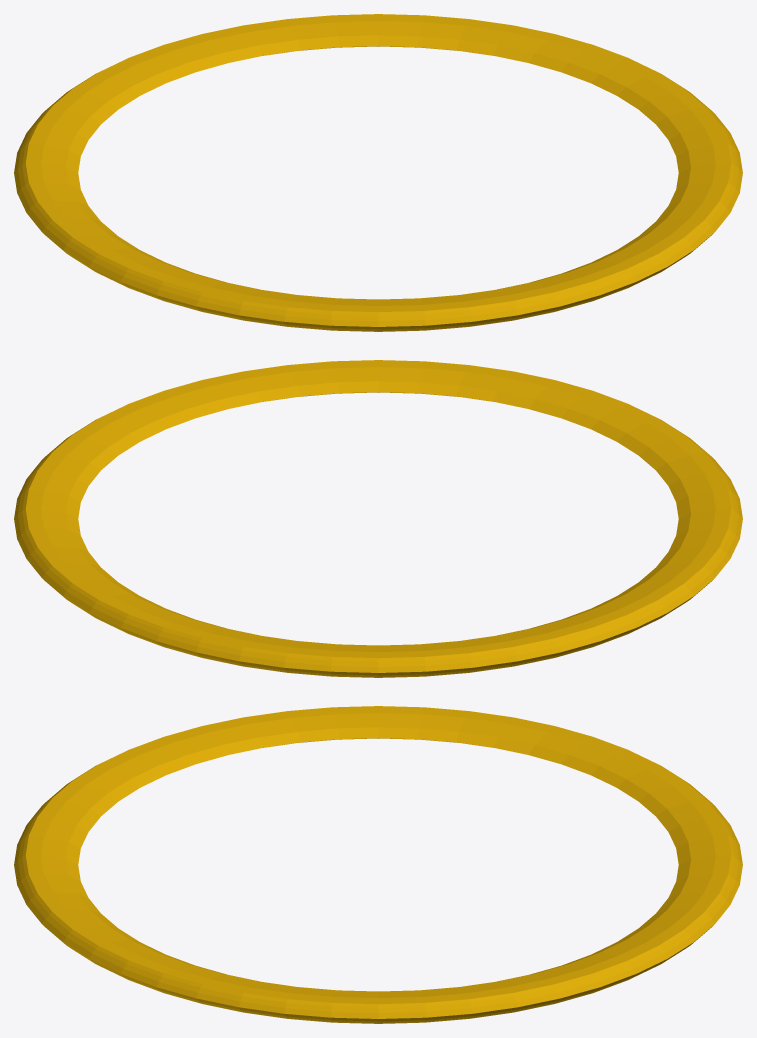
3 views of the same model, one above another, from view 1: azimuth 30°, elevation 25°; view 2: azimuth 150°, elevation 25°; view 3: azimuth 270°, elevation 25° (orthographic).
Parts seen in each view (by area): view 1: Torus; view 2: Torus; view 3: Torus.
Part boxes in pixels (left/top/right/bottom): Torus: left=14, top=14, right=742, bottom=331; Torus: left=14, top=360, right=742, bottom=677; Torus: left=14, top=706, right=742, bottom=1023.
Bounding box in the file's own units: 2756 × 82.42 × 2756.
